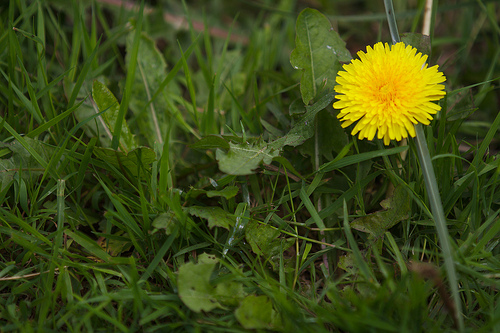dandelion yellow: (329, 40, 449, 148)
